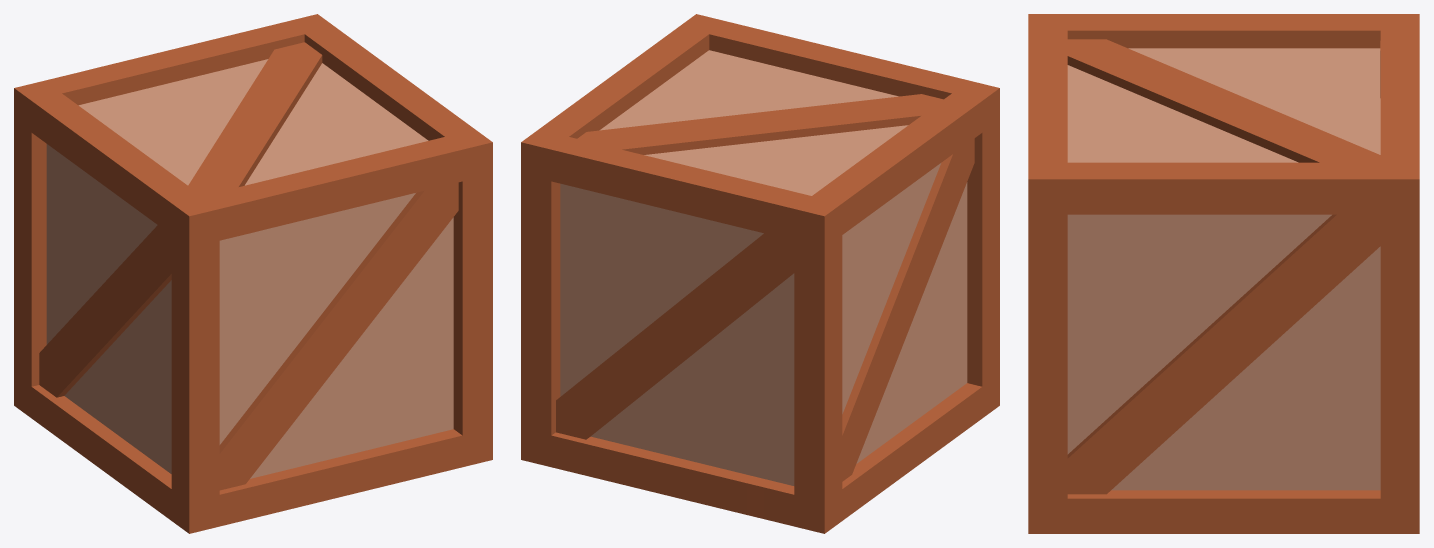
The model's file is MediumCrate.fbx.
3 renders of one model, left to right at view 1: azimuth 30°, elevation 25°; view 2: azimuth 150°, elevation 25°; view 3: azimuth 270°, elevation 25°, orthographic. The views are drawn at different scales.
Parts seen in each view (by area): view 1: Cube; view 2: Cube; view 3: Cube.
Part boxes in pixels (x1,y1,x2,y2): Cube: [14, 14, 492, 533]; Cube: [521, 14, 999, 533]; Cube: [1028, 14, 1419, 533].
Bounding box in the file's own units: 200 × 200 × 200.
